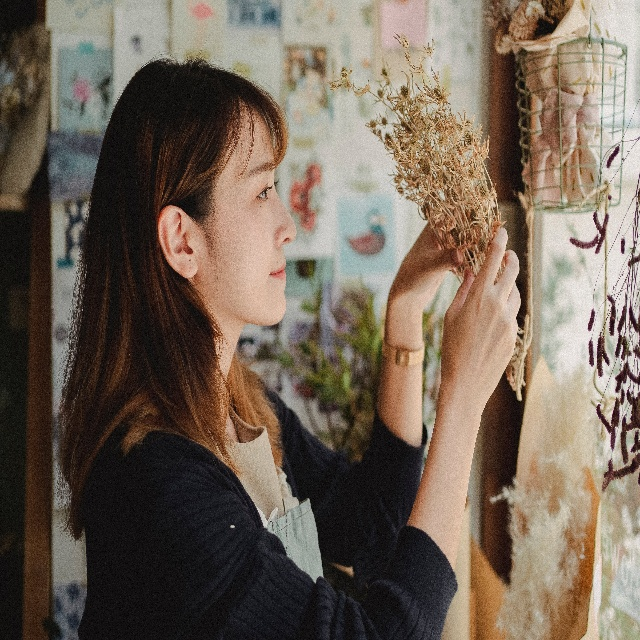Sin_guantes: (436, 227, 521, 405), (384, 215, 463, 302)
